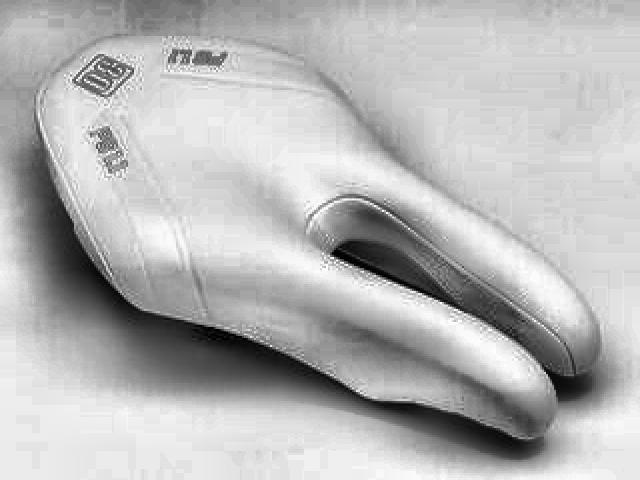saddle: (34, 33, 603, 447)
